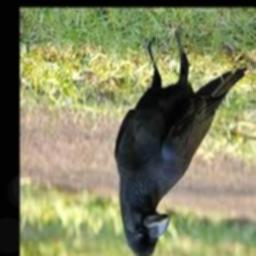Crow: (115, 30, 247, 256)
